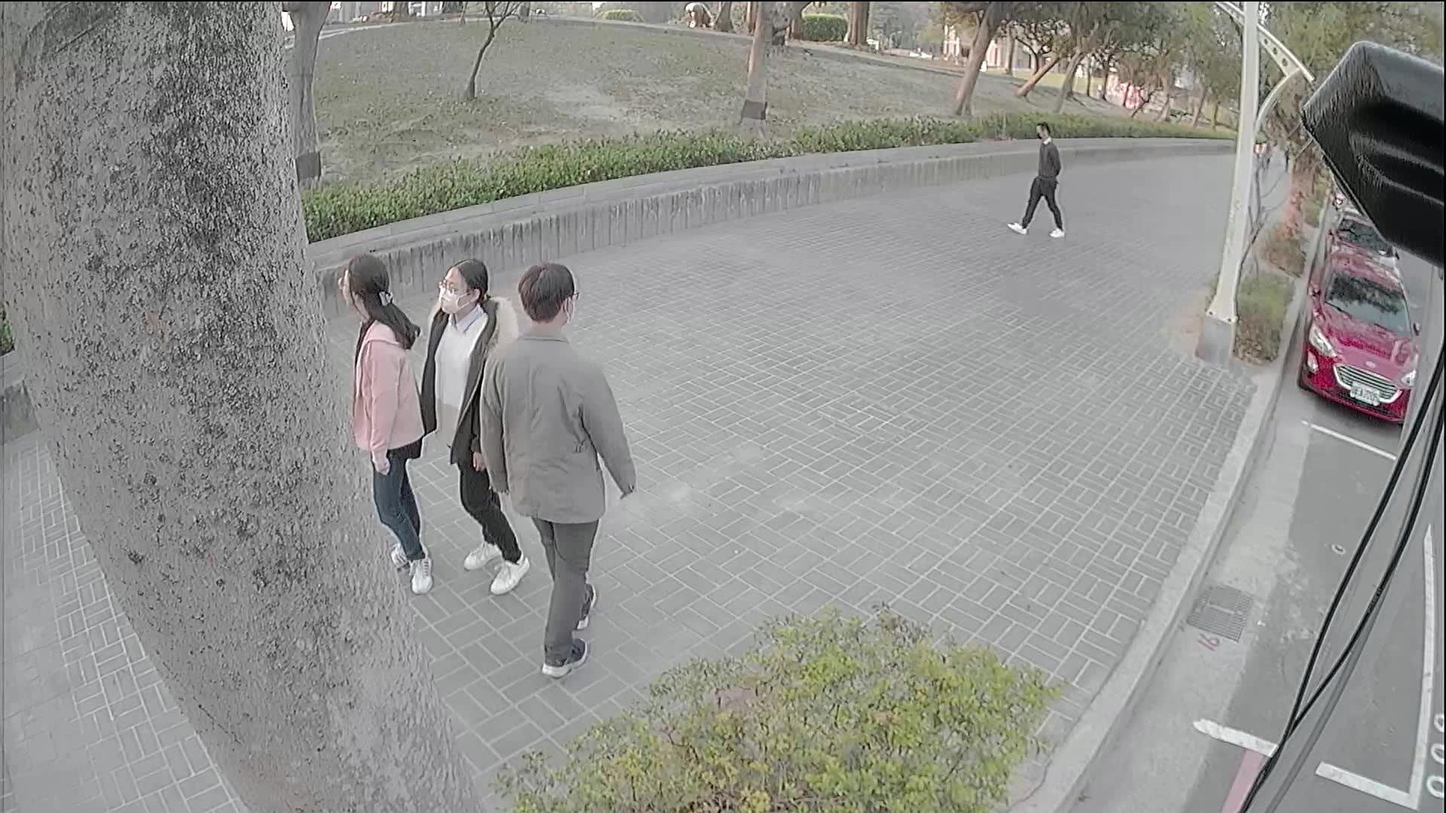person: (484, 263, 631, 678), (416, 257, 526, 594), (337, 252, 430, 592), (1014, 120, 1065, 238)
